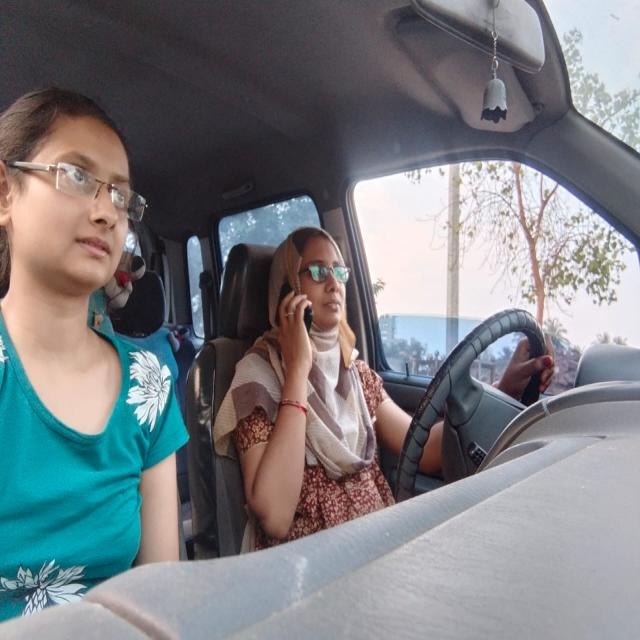mobile: (279, 280, 315, 348)
person: (0, 87, 140, 325), (272, 220, 358, 383)
